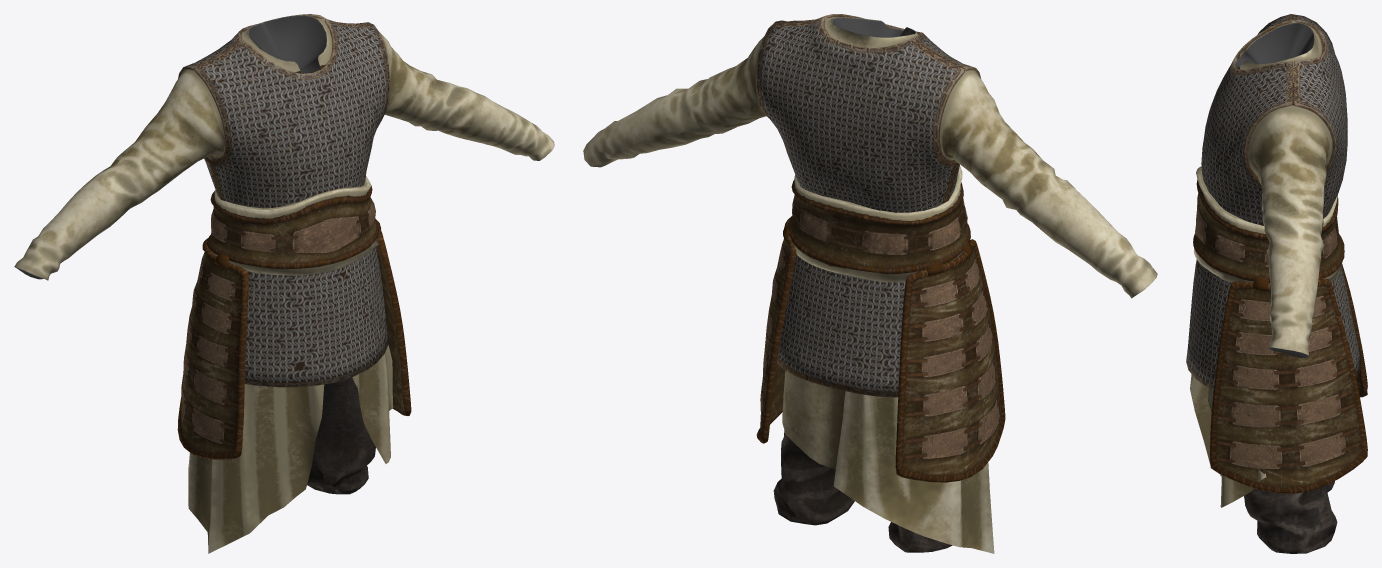
Rendered from dunland_caerdh_chainmail_heavy_a.fbx.
3 renders of one model, left to right at view 1: azimuth 30°, elevation 25°; view 2: azimuth 150°, elevation 25°; view 3: azimuth 270°, elevation 25°, orthographic. The views are drawn at different scales.
Parts seen in each view (by area): view 1: dunland_caerdh_chainmail_heavy_a, dunland_caerdh_chainmail_heavy_a.belta, dunland_caerdh_chainmail_heavy_a.skirt; view 2: dunland_caerdh_chainmail_heavy_a, dunland_caerdh_chainmail_heavy_a.belta, dunland_caerdh_chainmail_heavy_a.skirt; view 3: dunland_caerdh_chainmail_heavy_a, dunland_caerdh_chainmail_heavy_a.belta, dunland_caerdh_chainmail_heavy_a.skirt.
Boxes of the visible parts, x1,y1,x2,y2 form: dunland_caerdh_chainmail_heavy_a: (14, 14, 554, 494); dunland_caerdh_chainmail_heavy_a.belta: (177, 176, 411, 459); dunland_caerdh_chainmail_heavy_a.skirt: (188, 345, 393, 553); dunland_caerdh_chainmail_heavy_a: (583, 14, 1157, 552); dunland_caerdh_chainmail_heavy_a.belta: (756, 165, 1005, 482); dunland_caerdh_chainmail_heavy_a.skirt: (782, 371, 994, 553); dunland_caerdh_chainmail_heavy_a: (1186, 14, 1361, 553); dunland_caerdh_chainmail_heavy_a.belta: (1193, 166, 1367, 493); dunland_caerdh_chainmail_heavy_a.skirt: (1190, 374, 1266, 507).
Size of the model in its own units: 1.38 by 0.4015 by 1.21.
3 materials, 3 textured.
